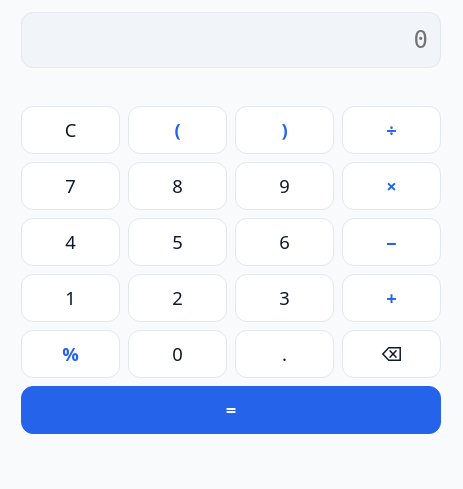
CalculatorWidget › calculates from typed input with Enter
In the field named "นิพจน์ที่ต้องการคำนวณ": (231,40) x1=21 y1=12 x2=441 y2=68, type "1500 * 7%"
Then press Enter
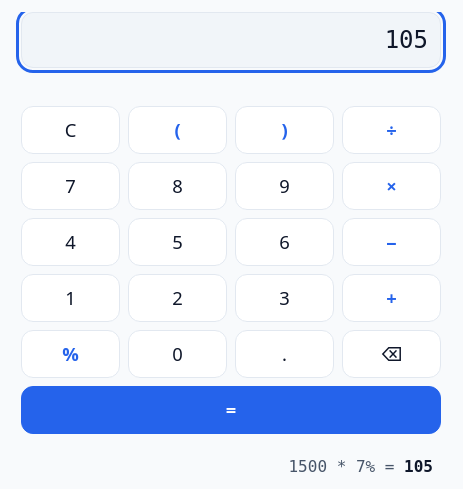
Expected: the field named "นิพจน์ที่ต้องการคำนวณ" holds "105", x1=21 y1=12 x2=441 y2=68
